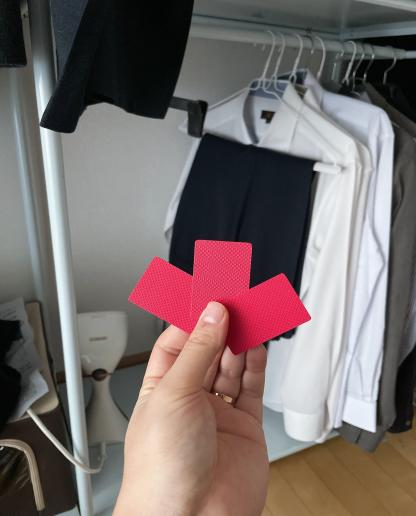ThreeHwatoo: (117, 217, 334, 370)
